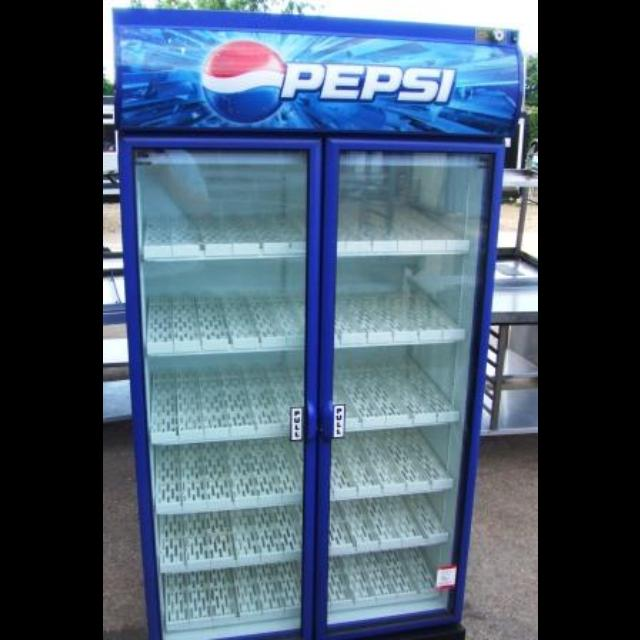Cooling-Display: (106, 1, 522, 636)
